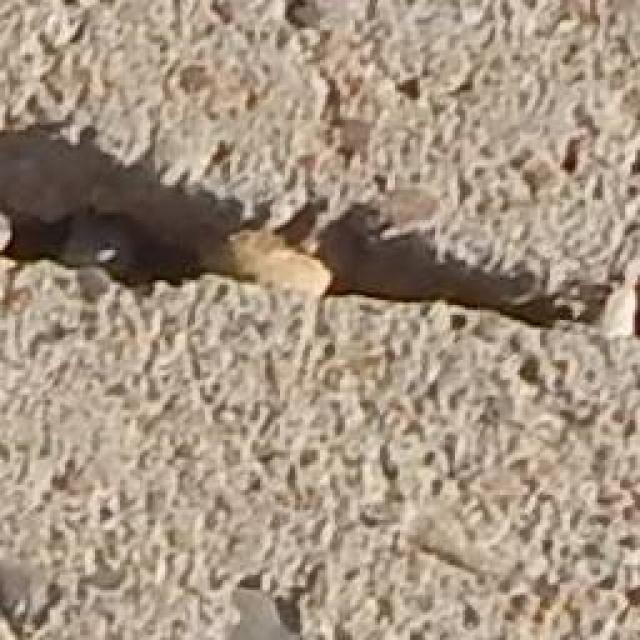concrete-crack: (0, 107, 640, 342)
